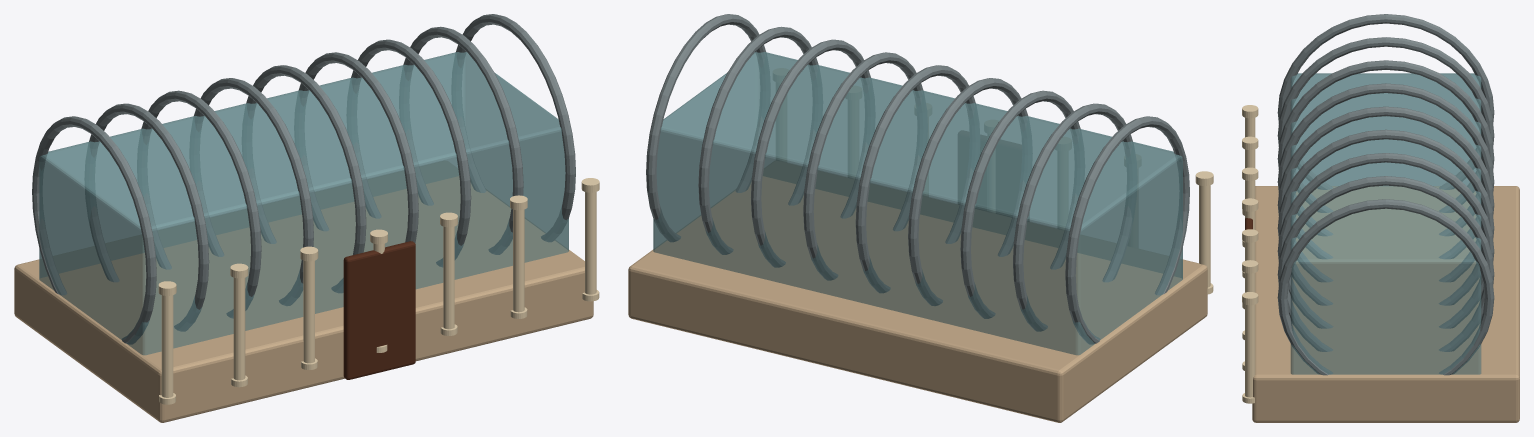
File: paris-market.glb
The picture shows the model from 3 angles, left to right: view 1: azimuth 30°, elevation 25°; view 2: azimuth 150°, elevation 25°; view 3: azimuth 270°, elevation 25°; orthographic projection. The views are drawn at different scales.
Visible parts, largest first — view 1: Optimized Paris landmark; view 2: Optimized Paris landmark; view 3: Optimized Paris landmark.
Boxes of the visible parts, bbox=[...] form: Optimized Paris landmark: bbox=[14, 14, 599, 422]; Optimized Paris landmark: bbox=[628, 14, 1213, 422]; Optimized Paris landmark: bbox=[1242, 14, 1519, 422].
Size of the model in its own units: 11.3 by 6.02 by 6.85.
